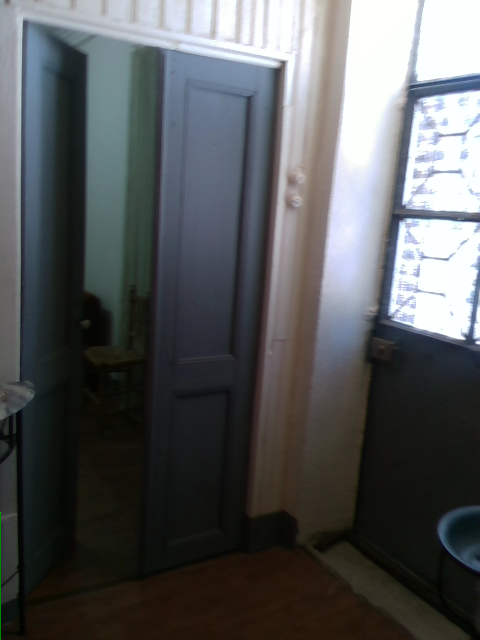semi: (11, 2, 295, 601)
